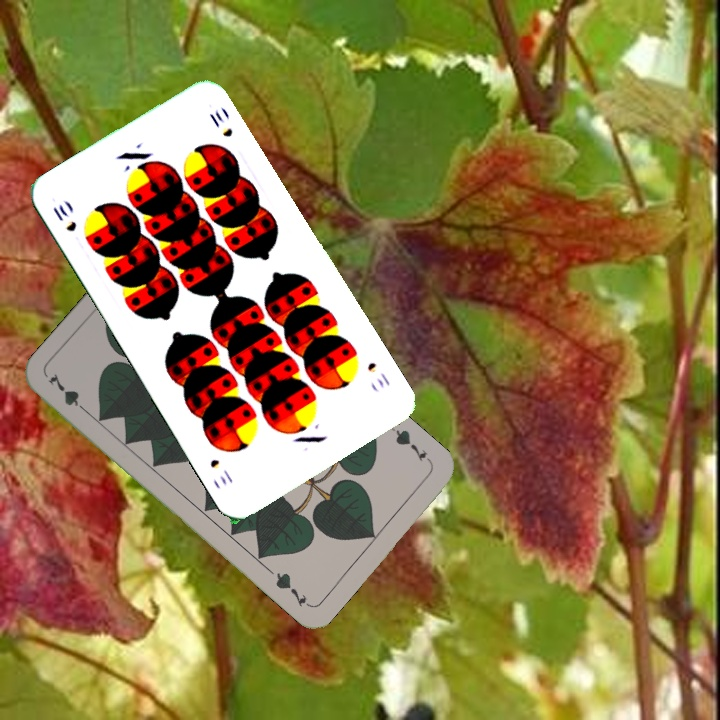G7: (44, 369, 93, 417), (387, 423, 434, 466)
S10: (48, 200, 80, 235), (363, 358, 393, 391)
